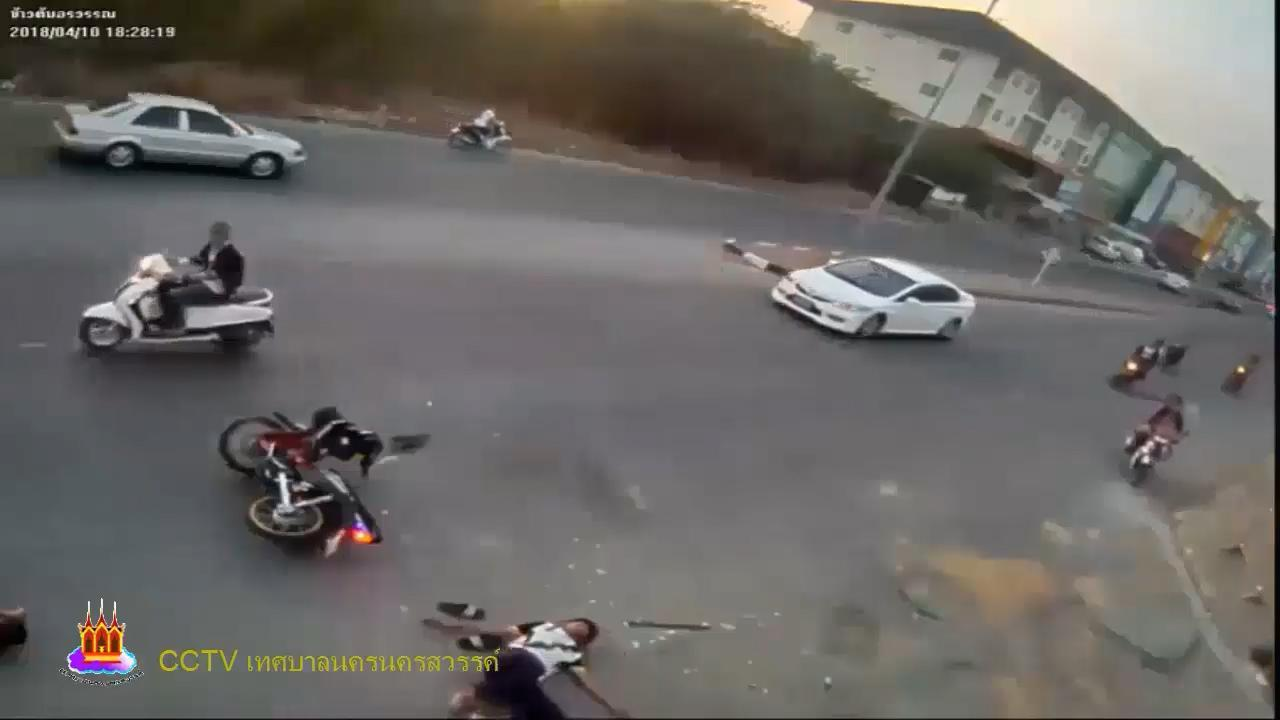accident: (416, 605, 632, 720)
